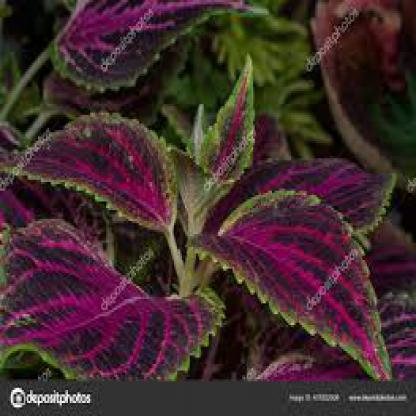Bunga Coleus: (20, 10, 373, 369)
